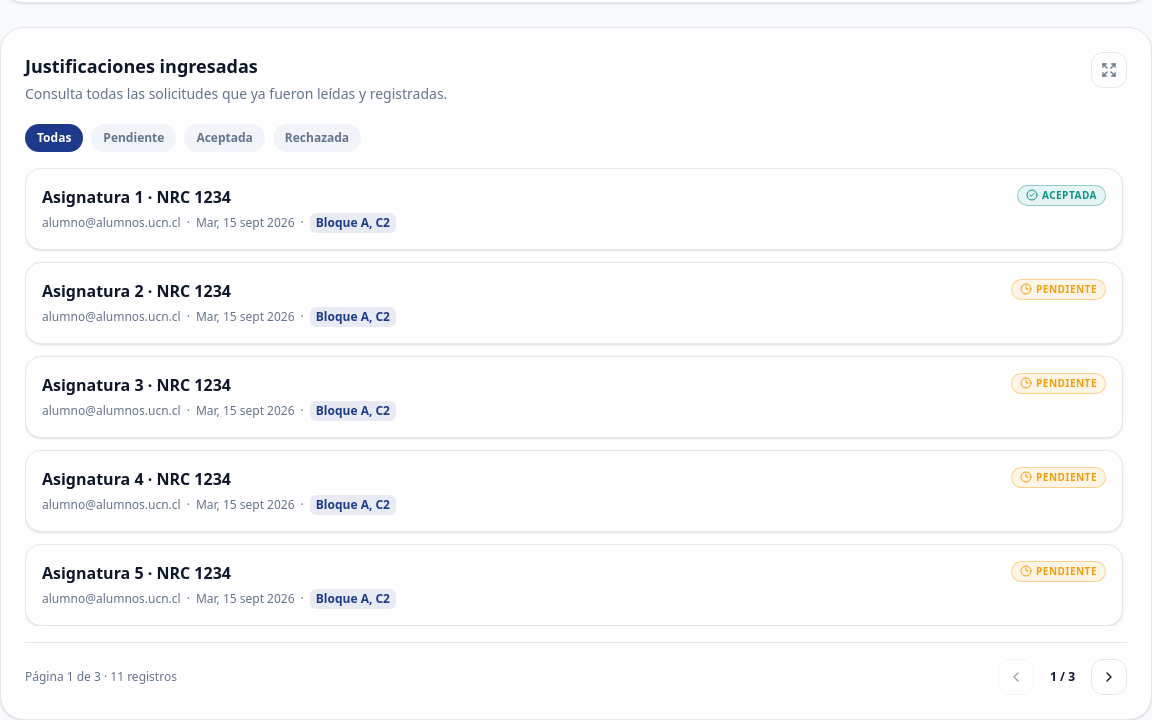
Test case: JustificationsPage (coordinación de apoyo docente) › pagina las ingresadas, mantiene la página al expandir y vuelve al inicio al filtrar
(page scrolled)
Check: the text "Asignatura 1 · NRC 1234" is shown, box [42, 186, 231, 208]
Check: the text "Asignatura 6 · NRC 1234" is not shown
Click the button named "siguiente".
click(1109, 677)  # box [1091, 659, 1127, 695]
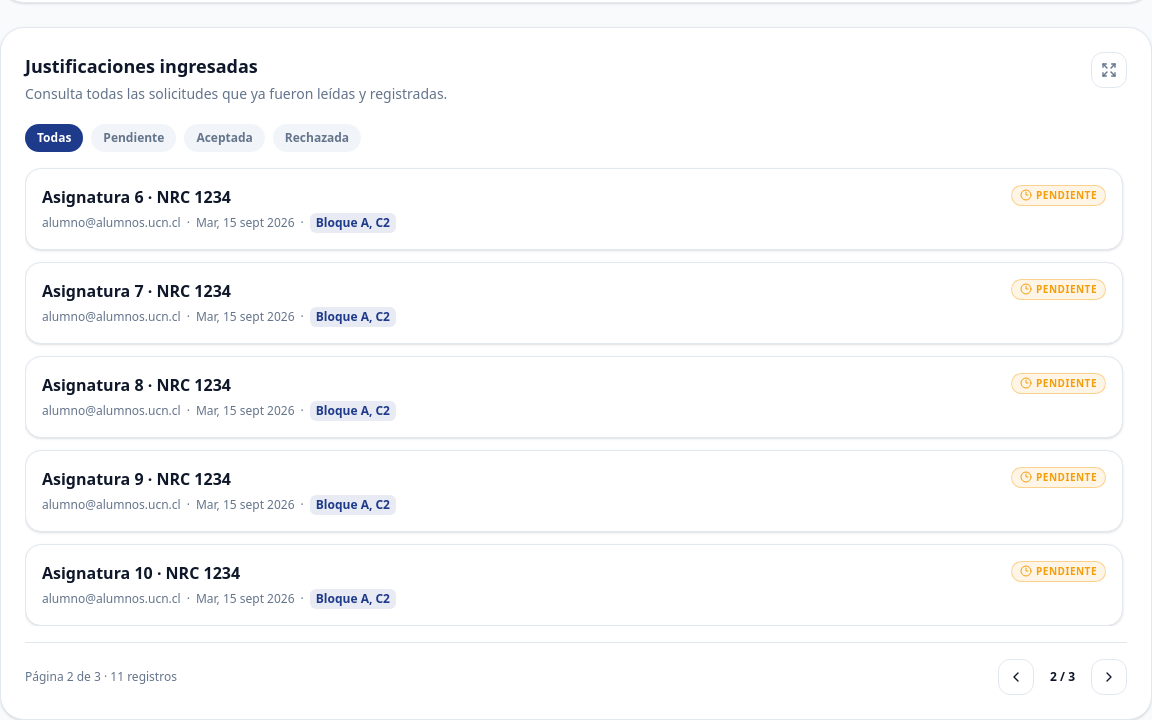
Check: the text "Asignatura 6 · NRC 1234" is shown, box [42, 186, 231, 208]
Check: the button "Asignatura 1 · NRC 1234" is gone
Click the button named "Expandir panel".
click(1109, 70)  # box [1091, 52, 1127, 88]
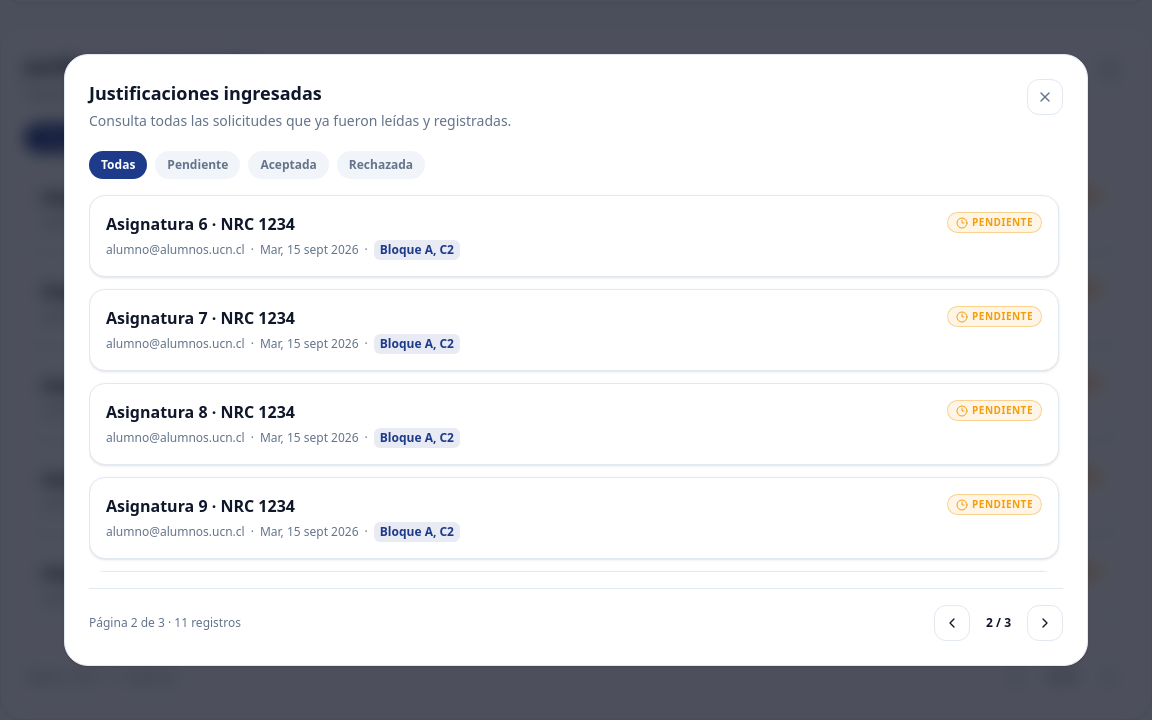
Check: the text "Asignatura 6 · NRC 1234" is shown, box [106, 213, 295, 235]
Click the button "Aceptada".
click(289, 165)  # box [248, 151, 329, 179]
(page scrolled)
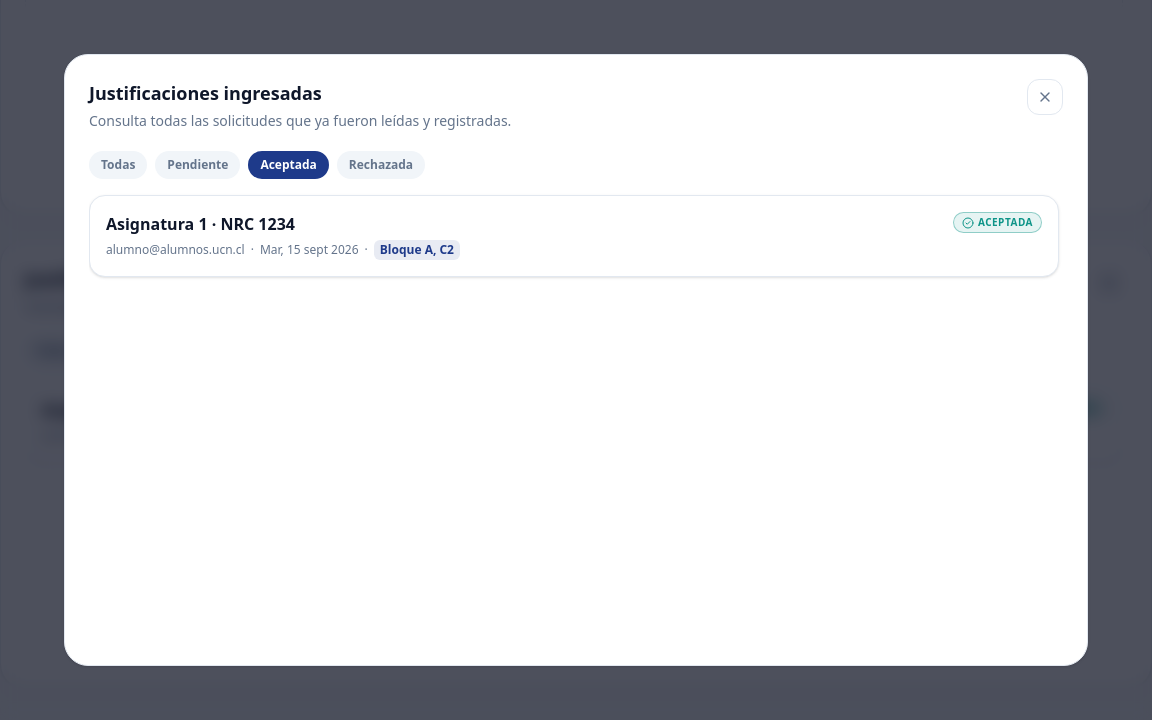
Check: the text "Asignatura 1 · NRC 1234" is shown, box [106, 213, 295, 235]
